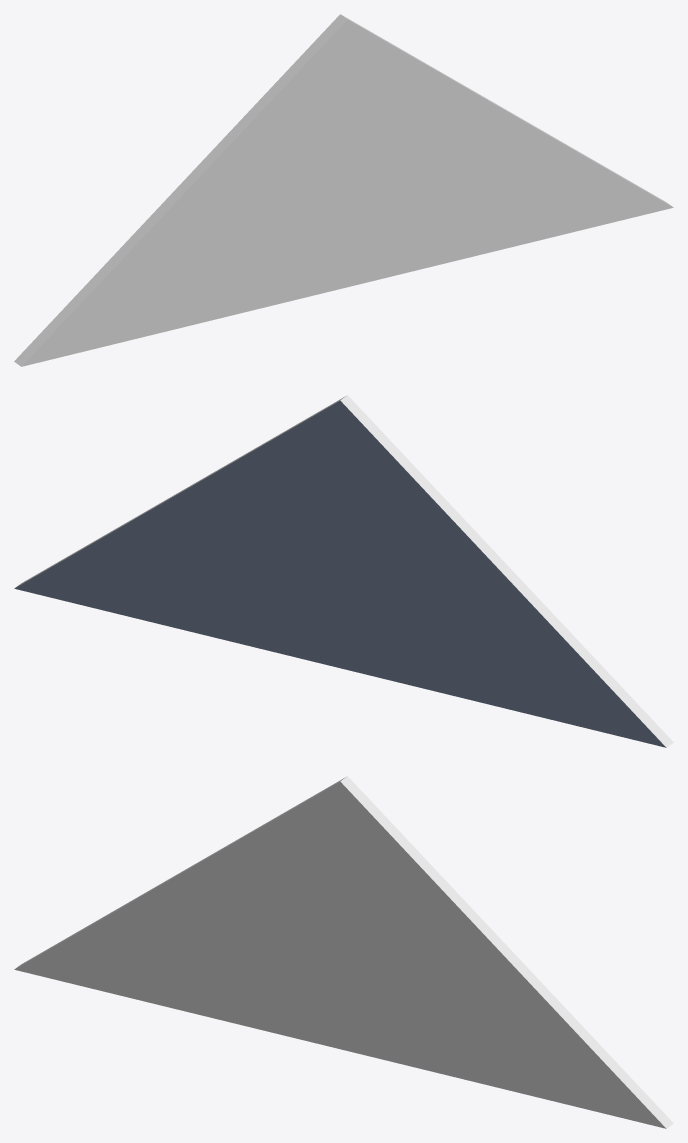
Rendered from Wall3_C2_18.fbx.
The picture shows the model from 3 angles, top to bottom: view 1: azimuth 30°, elevation 25°; view 2: azimuth 150°, elevation 25°; view 3: azimuth 330°, elevation 25°; orthographic projection.
Visible parts, largest first — view 1: Wall3_C2_18; view 2: Wall3_C2_18; view 3: Wall3_C2_18.
Boxes of the visible parts, x1=… form: Wall3_C2_18: x1=14, y1=14, x2=673, y2=366; Wall3_C2_18: x1=14, y1=395, x2=673, y2=747; Wall3_C2_18: x1=14, y1=776, x2=673, y2=1128.
Bounding box in the file's own units: 765 × 300 × 15.
